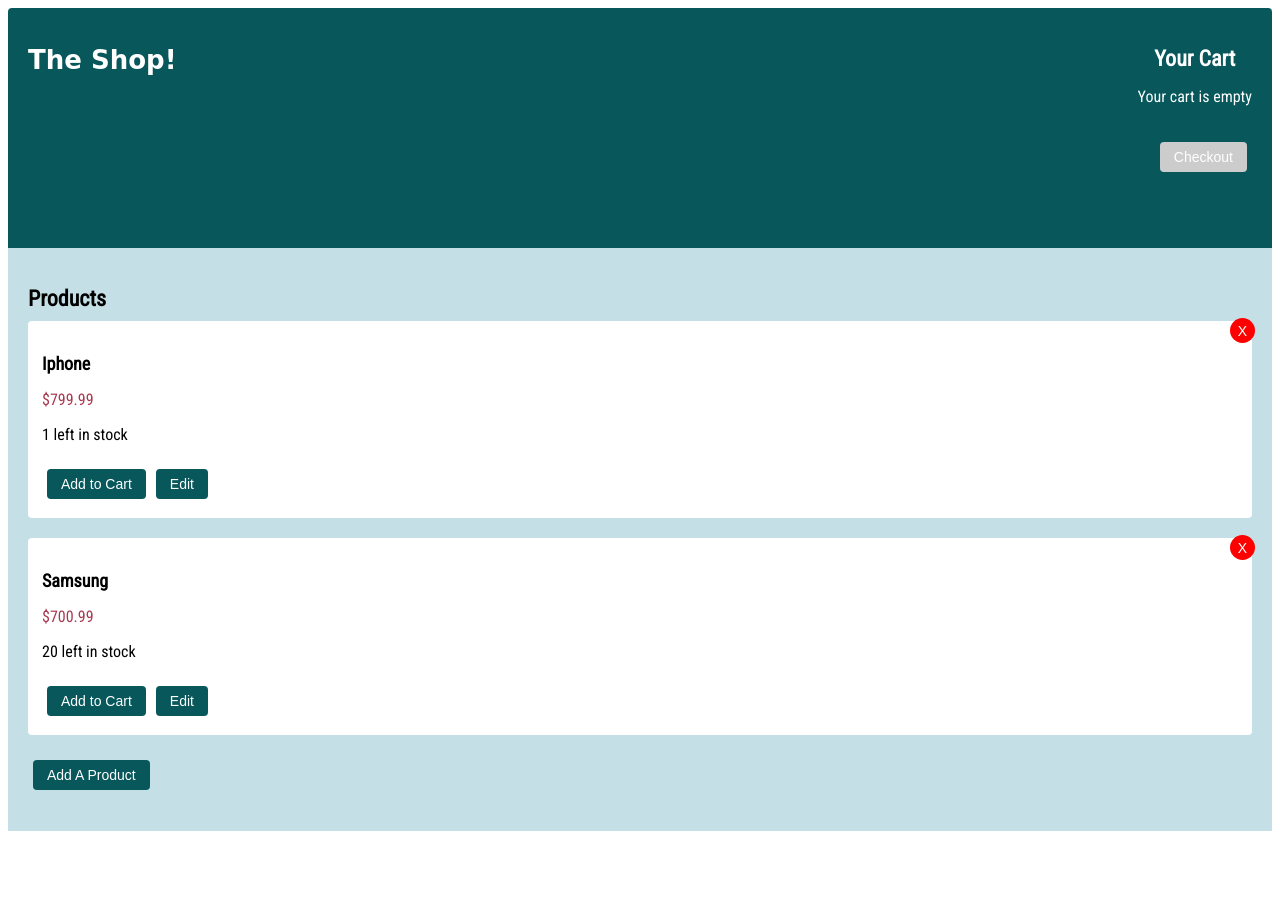
Test case: Deleting a product removes its listing
Expected: the heading "Iphone" is shown, [42,353,90,374]
Click the button named "delete" at (1242, 331), box [1230,318,1255,343]
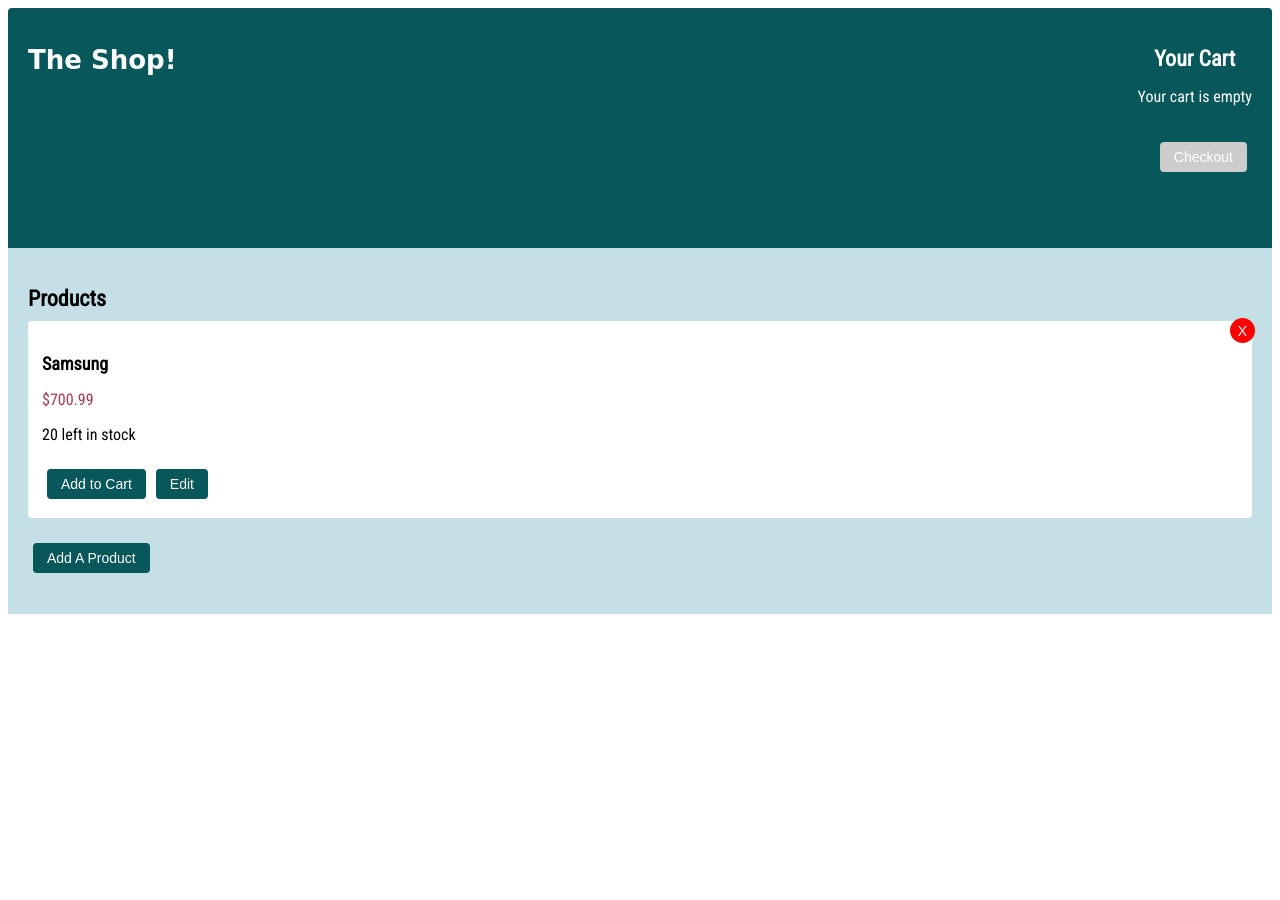
Now the heading "Iphone" is gone
